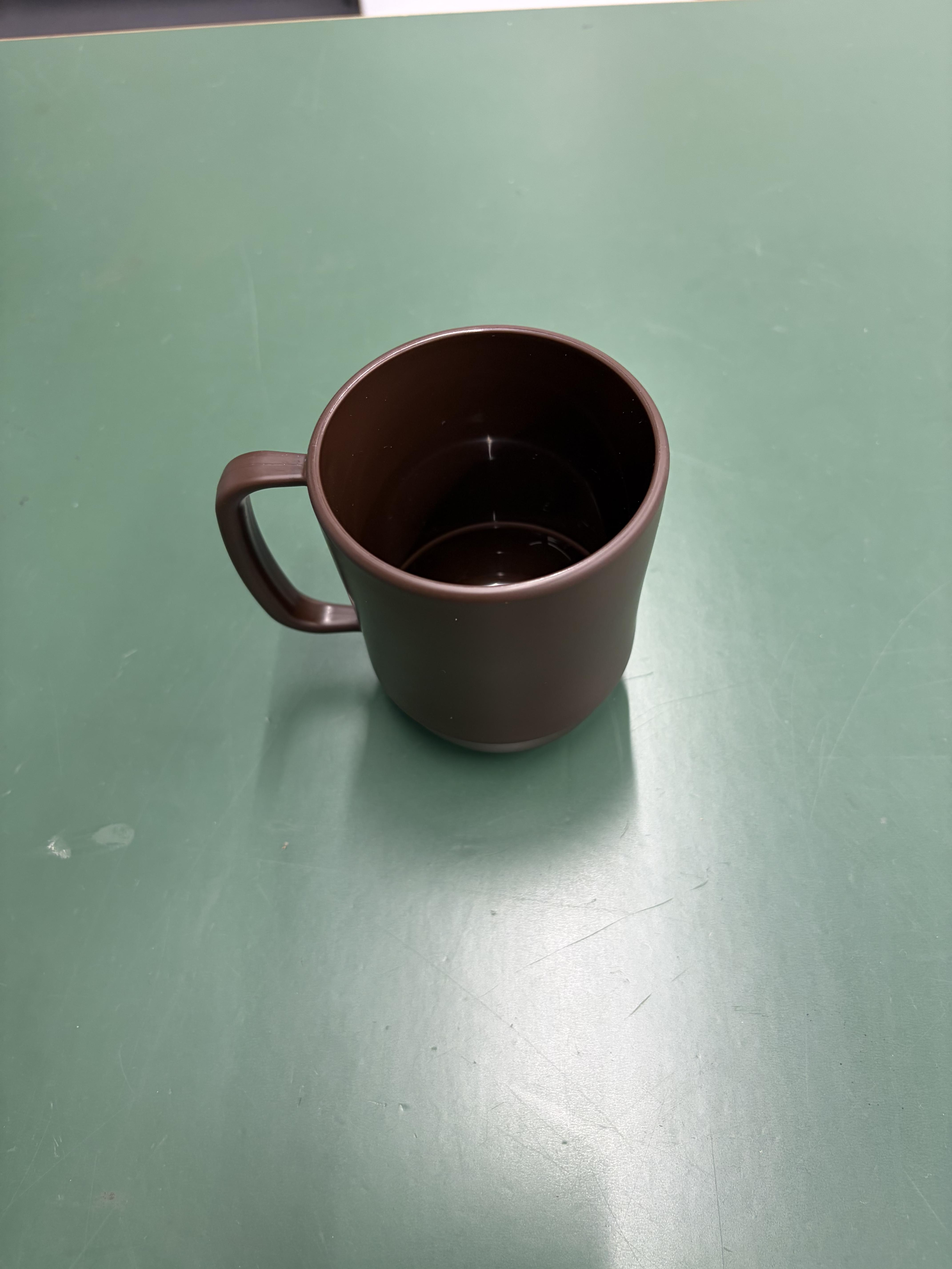mug-real100-3d100: (216, 326, 670, 751)
